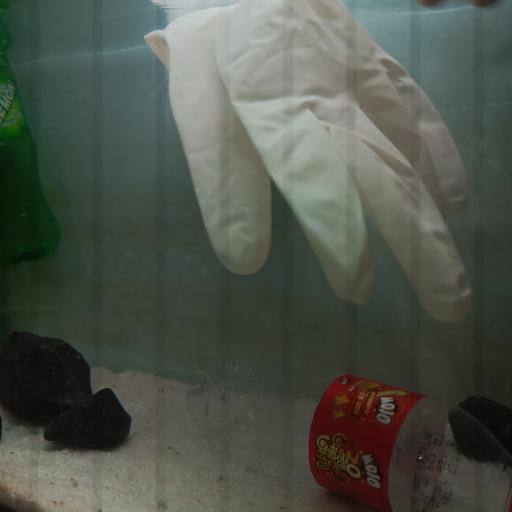glove: (142, 0, 474, 324)
plastic_bottle: (184, 353, 510, 512), (0, 41, 62, 266)
